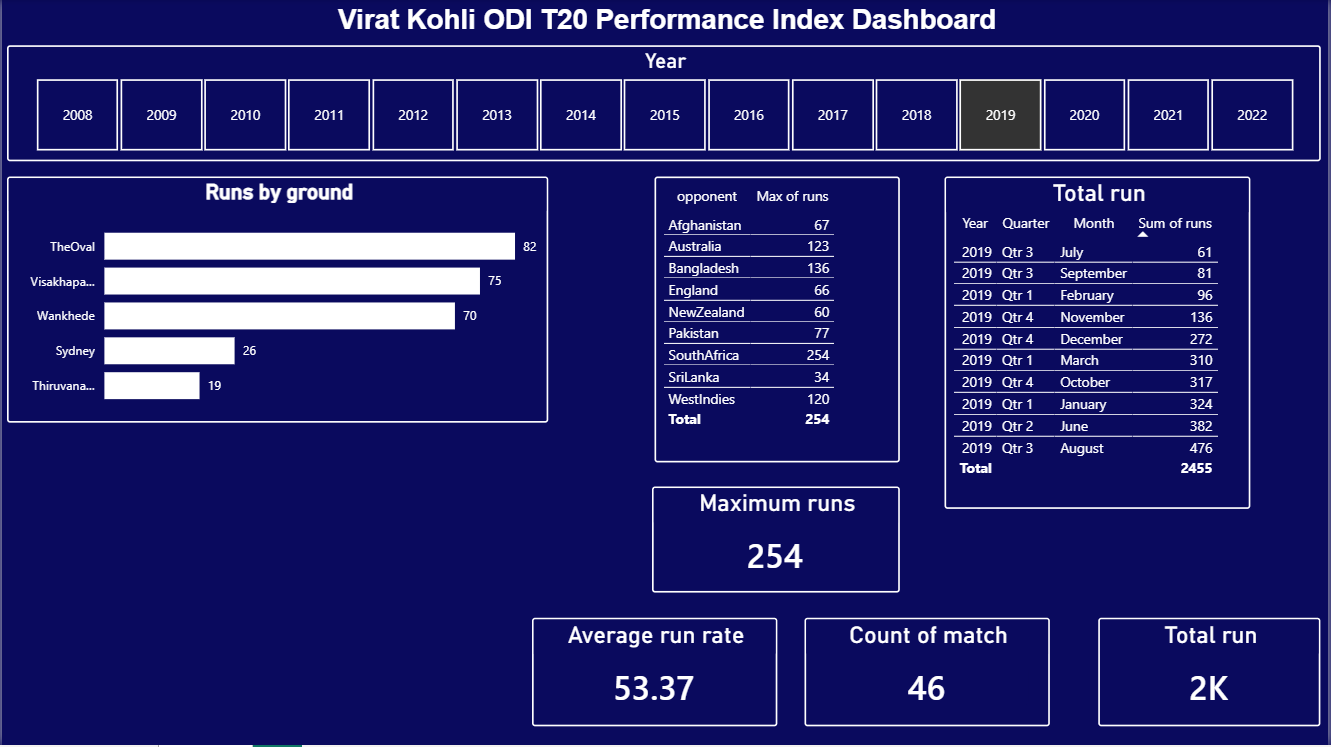

This screenshot's page, from the dashboard's own definition file:
{"tool":"powerbi","page":{"name":"Page 1","canvas":[1280,720],"ordinal":0},"visuals":[{"type":"textbox","box":[265.4,0,745.6,44.6],"z":0},{"type":"slicer","title":"Year","fields":{"Values":["virat final.date.Variation.Date Hierarchy.Year"]},"box":[4.8,44.6,1268,112.2],"z":1000},{"type":"barChart","title":"Runs by ground","fields":{"Category":["virat final.ground"],"Y":["Sum(virat final.runs)"]},"box":[4.8,171.3,522.4,237.7],"z":2000},{"type":"tableEx","title":"Total run","fields":{"Values":["virat final.date.Variation.Date Hierarchy.Year","virat final.date.Variation.Date Hierarchy.Quarter","virat final.date.Variation.Date Hierarchy.Month","Sum(virat final.runs)"]},"box":[909.7,171.3,295.6,320.9],"z":3000},{"type":"tableEx","fields":{"Values":["virat final.opponent","Max(virat final.runs)"]},"box":[629.8,171.3,236.5,276.3],"z":4000},{"type":"cardVisual","title":"Count of match","fields":{"Data":["CountNonNull(virat final.match)"]},"box":[774.5,597.2,236.5,105],"z":5000},{"type":"cardVisual","title":"Total run","fields":{"Data":["Sum(virat final.runs)"]},"box":[1058,597.2,214.7,105],"z":6000},{"type":"cardVisual","title":"Average run rate","fields":{"Data":["Avg(virat final.runs)"]},"box":[511.5,597.2,236.5,105],"z":7000},{"type":"cardVisual","title":"Maximum runs","fields":{"Data":["Max(virat final.runs)"]},"box":[627.3,470.5,238.9,102.5],"z":7001}]}

Visuals, with their boxes in screenshot pixels (x1, y1, x2, y2), scaled from the page's 1280x720 canvas onto the 1331x747 screenshot:
textbox: locate(276, 0, 1051, 46)
"Year" slicer: locate(5, 46, 1324, 163)
"Runs by ground" barChart: locate(5, 178, 548, 424)
"Total run" tableEx: locate(946, 178, 1253, 511)
tableEx - virat final.opponent x Max(virat final.runs): locate(655, 178, 901, 464)
"Count of match" cardVisual: locate(805, 620, 1051, 729)
"Total run" cardVisual: locate(1100, 620, 1323, 729)
"Average run rate" cardVisual: locate(532, 620, 778, 729)
"Maximum runs" cardVisual: locate(652, 488, 901, 594)
